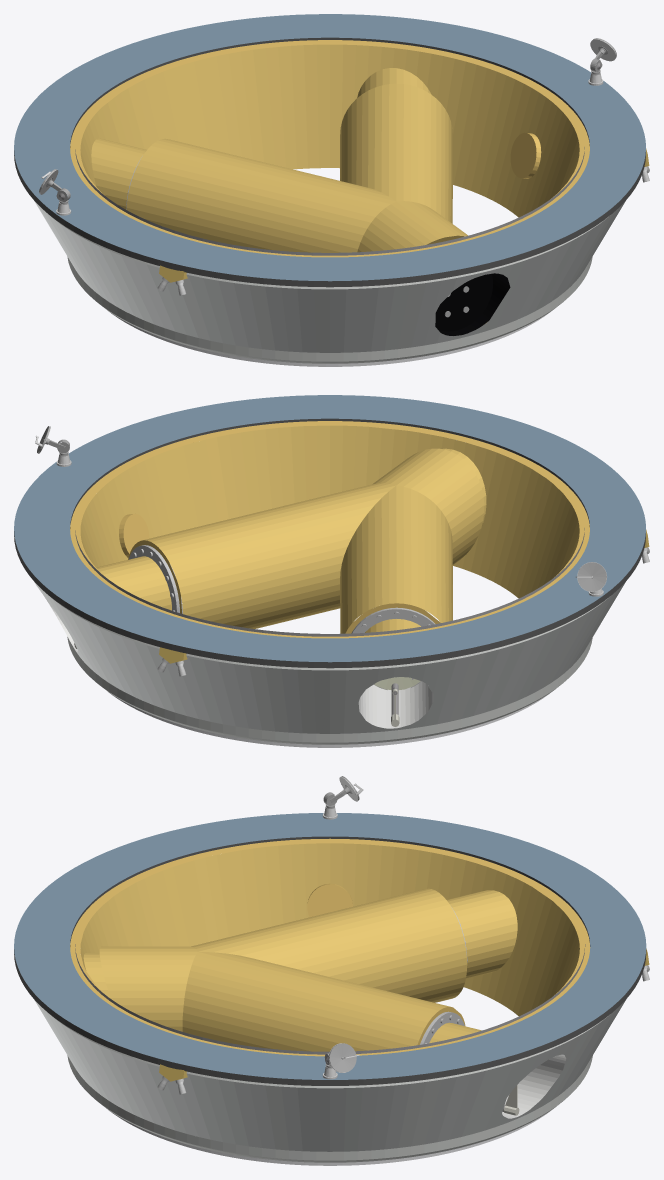
Rendered from laser-interferometer-space-antenna-lisa-2006.glb.
3 renders of one model, top to bottom at view 1: azimuth 30°, elevation 25°; view 2: azimuth 150°, elevation 25°; view 3: azimuth 270°, elevation 25°, orthographic.
Visible parts, largest first — view 1: Layer_0; view 2: Layer_0; view 3: Layer_0.
Part boxes in pixels (x1,y1,x2,y2): Layer_0: (14,14,649,366); Layer_0: (14,395,649,747); Layer_0: (14,776,649,1165).
Bounding box in the file's own units: 2.59 × 0.6508 × 2.49.
Materials: 2 (2 with a texture image).
